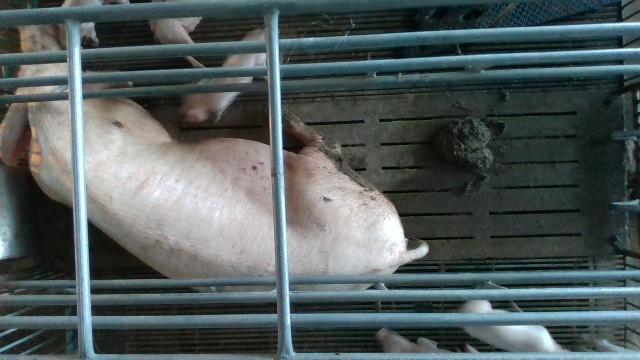piglet: (177, 28, 269, 124), (461, 300, 565, 350), (58, 0, 127, 50), (377, 328, 461, 353)
sow-sit: (1, 21, 430, 292)
